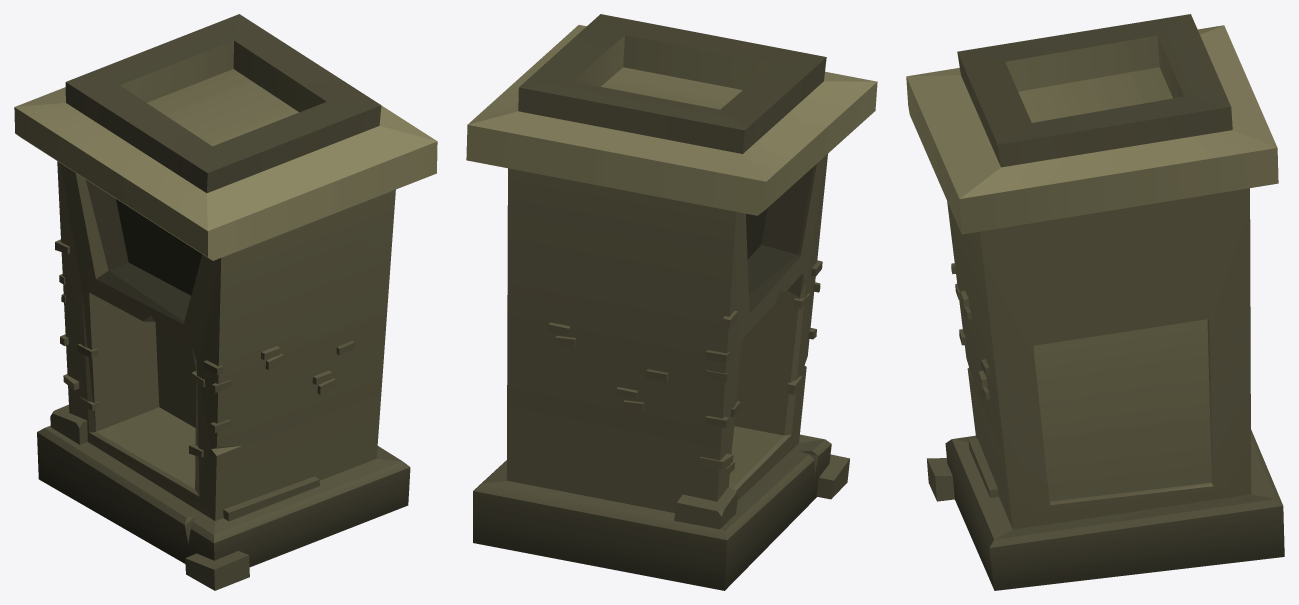
Rendered from ea_bld_tomb_niche_mossy_class_c_01a_pre__7__lev1.glb.
3 renders of one model, left to right at view 1: azimuth 30°, elevation 25°; view 2: azimuth 150°, elevation 25°; view 3: azimuth 270°, elevation 25°, orthographic. The views are drawn at different scales.
Visible parts, largest first — view 1: ea_bld_tomb_niche_mossy_class_c_01a_pre__7__lev1; view 2: ea_bld_tomb_niche_mossy_class_c_01a_pre__7__lev1; view 3: ea_bld_tomb_niche_mossy_class_c_01a_pre__7__lev1.
Boxes of the visible parts, x1,y1,x2,y2 form: ea_bld_tomb_niche_mossy_class_c_01a_pre__7__lev1: (14,14,437,590); ea_bld_tomb_niche_mossy_class_c_01a_pre__7__lev1: (466,14,877,590); ea_bld_tomb_niche_mossy_class_c_01a_pre__7__lev1: (906,14,1284,590).
Bounding box in the file's own units: 3.52 × 4.86 × 3.61.
1 material, 1 textured.
